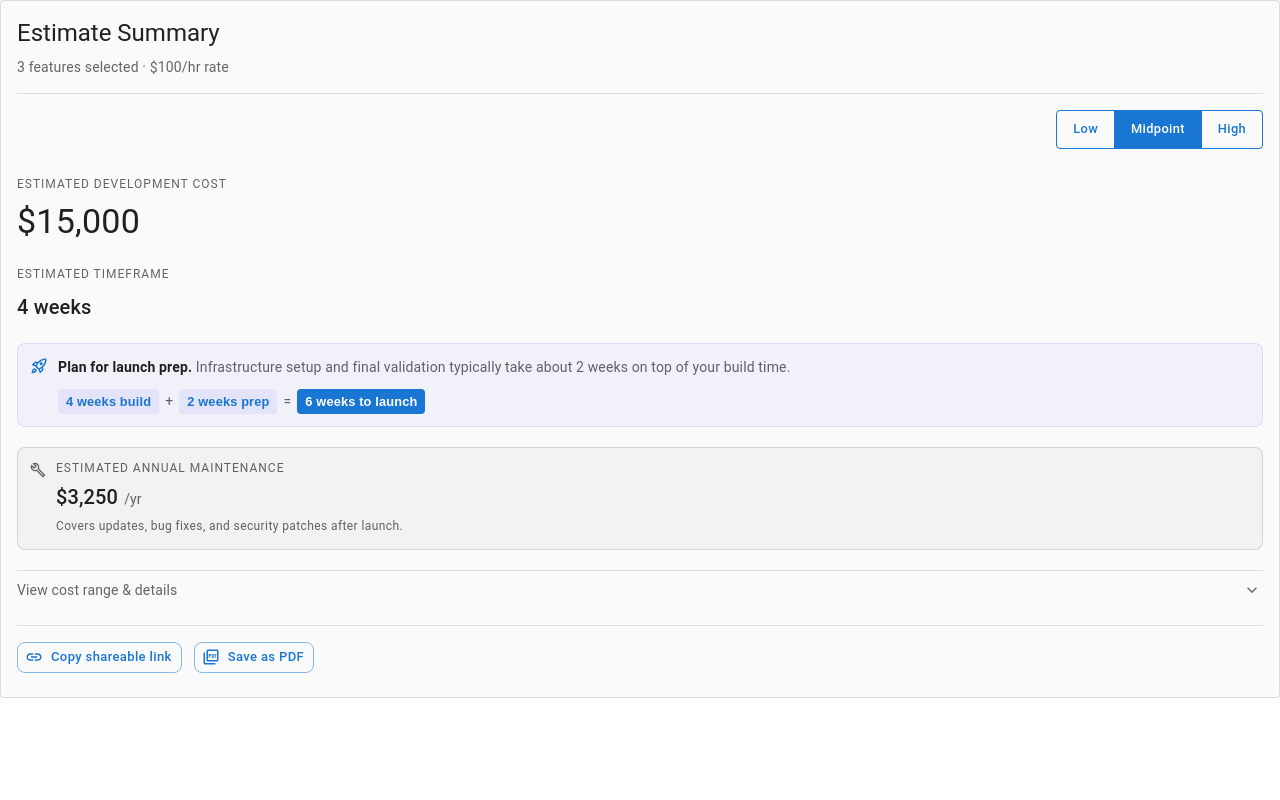
Test: EstimateResults › loaded state with estimate › clicking High changes displayed cost to maxCost
Step 1. Click the button "High" → [1232, 130], box [1201, 110, 1263, 149]
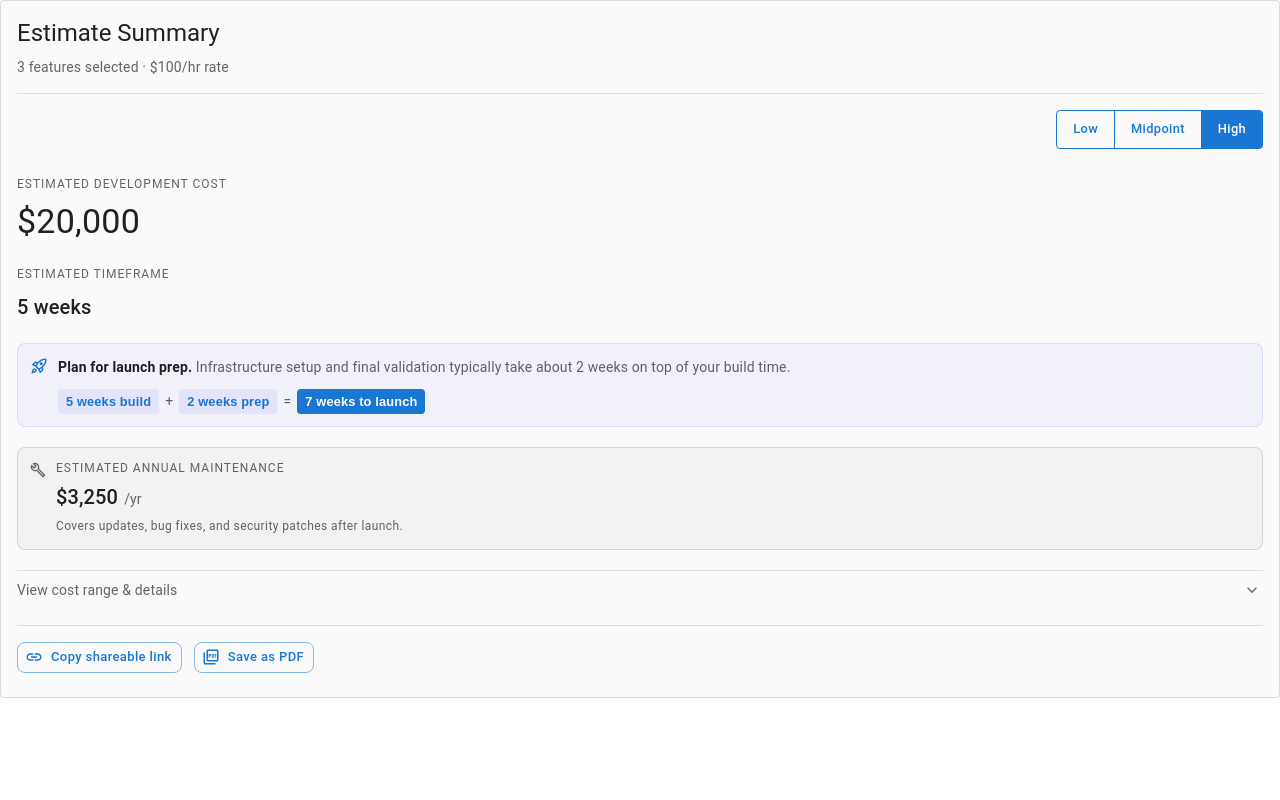
Check: the heading "$20,000" is shown, box [17, 201, 140, 241]
